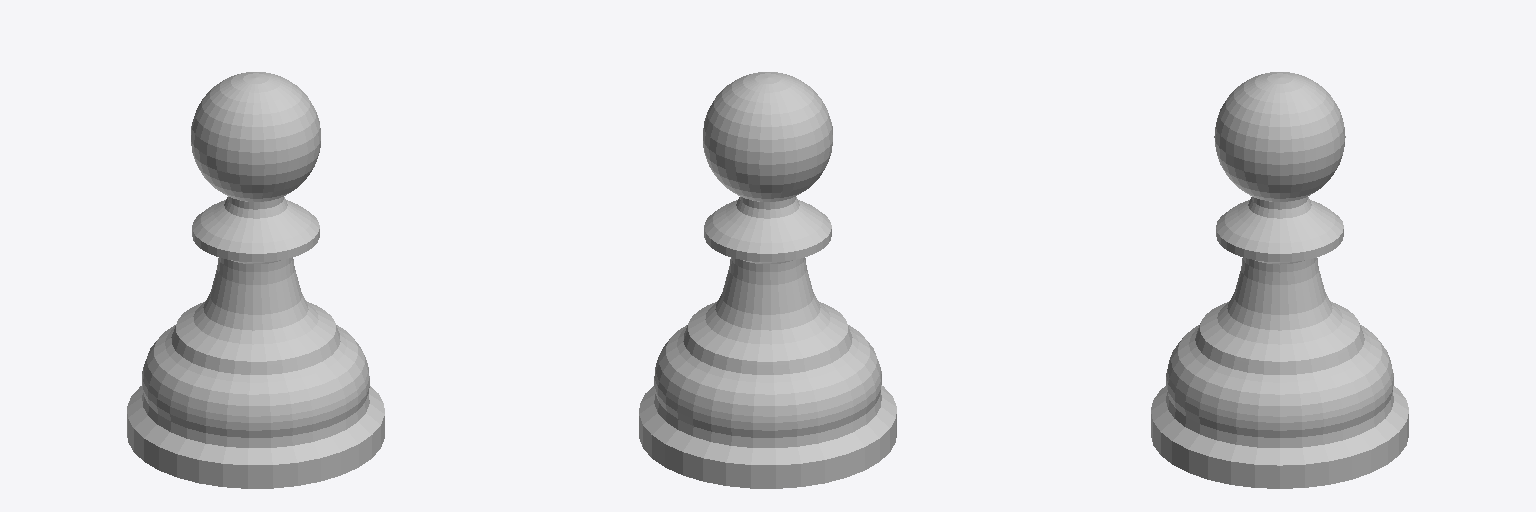
The model's file is pawn.obj.
3 renders of one model, left to right at view 1: azimuth 30°, elevation 25°; view 2: azimuth 150°, elevation 25°; view 3: azimuth 270°, elevation 25°, orthographic.
Visible parts, largest first — view 1: Cylinder; view 2: Cylinder; view 3: Cylinder.
Boxes of the visible parts, x1=… form: Cylinder: x1=127, y1=72, x2=384, y2=488; Cylinder: x1=639, y1=72, x2=896, y2=488; Cylinder: x1=1151, y1=72, x2=1408, y2=488.
Bounding box in the file's own units: 3.08 × 4.69 × 3.08.